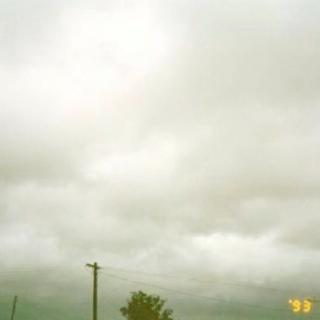Stratus: (0, 1, 320, 294)
